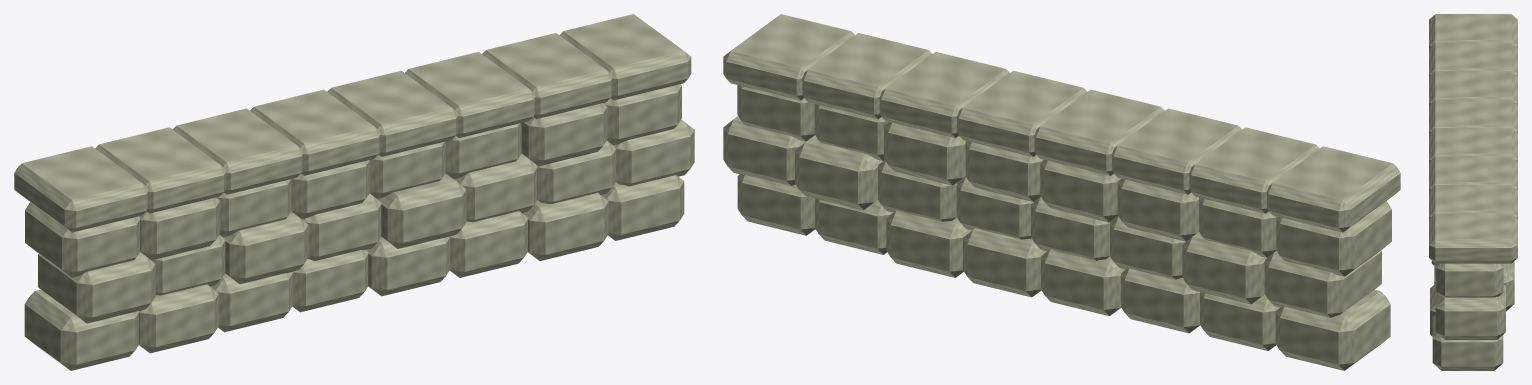
The model's file is fieldstone_wall.glb.
3 renders of one model, left to right at view 1: azimuth 30°, elevation 25°; view 2: azimuth 150°, elevation 25°; view 3: azimuth 270°, elevation 25°, orthographic. The views are drawn at different scales.
Visible parts, largest first — view 1: fieldstone_wall.002; view 2: fieldstone_wall.002; view 3: fieldstone_wall.002.
Part boxes in pixels (x1=…): fieldstone_wall.002: x1=14, y1=14, x2=694, y2=370; fieldstone_wall.002: x1=723, y1=14, x2=1400, y2=370; fieldstone_wall.002: x1=1429, y1=14, x2=1517, y2=370.
Bounding box in the file's own units: 4.11 × 1.1 × 0.66.
Materials: 1 (1 with a texture image).
